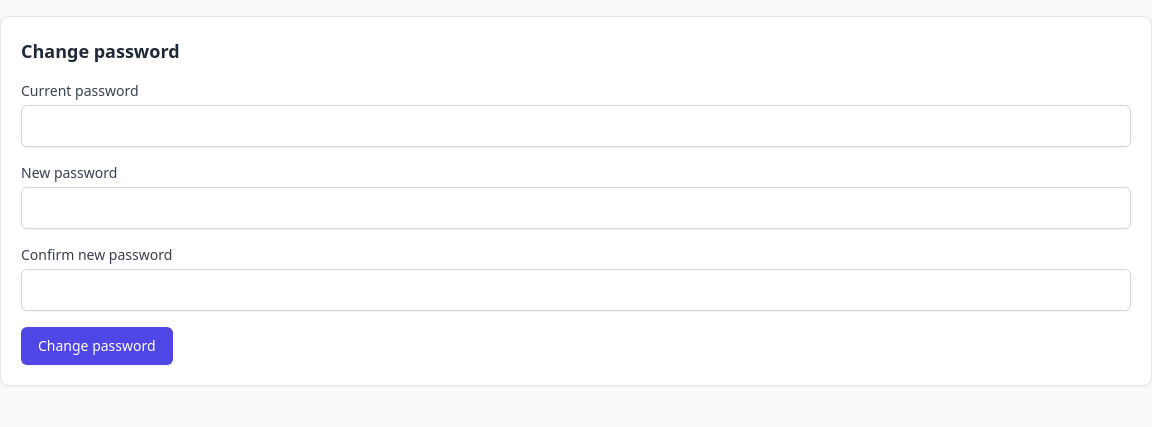
it: ChangePasswordForm › shows an error when the confirmation does not match
The width and height of the screenshot is (1152, 427).
Type "secret1234" into the password field labelled "Current password". click: (576, 126)
box: [21,105,1131,147]
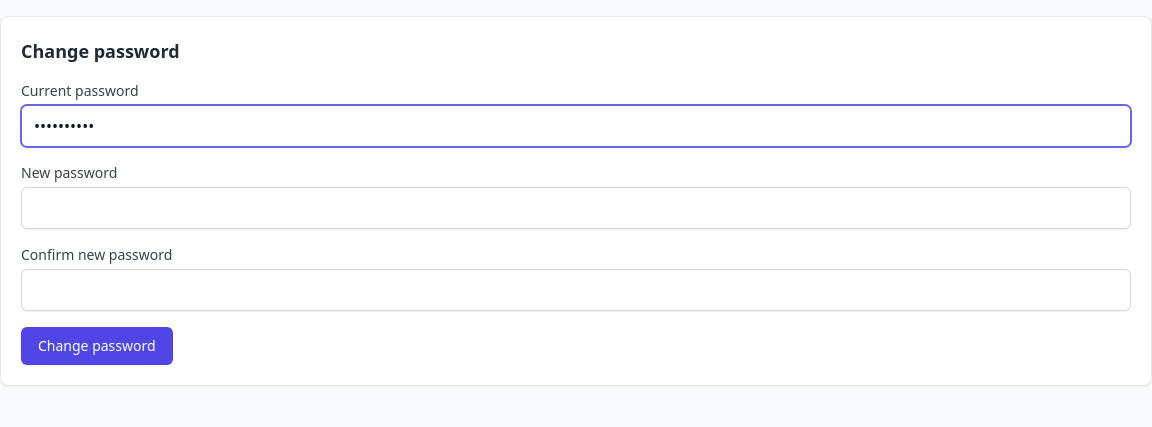
Type "newsecret5678" into the password field labelled "New password". click: (576, 208)
box: [21,187,1131,229]
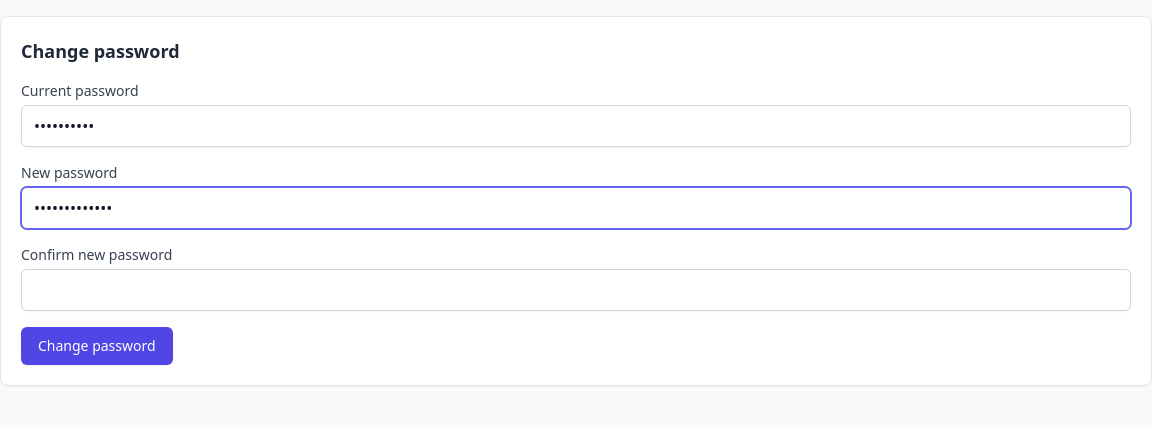
Type "different123" into the password field labelled "Confirm new password". click: (576, 290)
box: [21,269,1131,311]
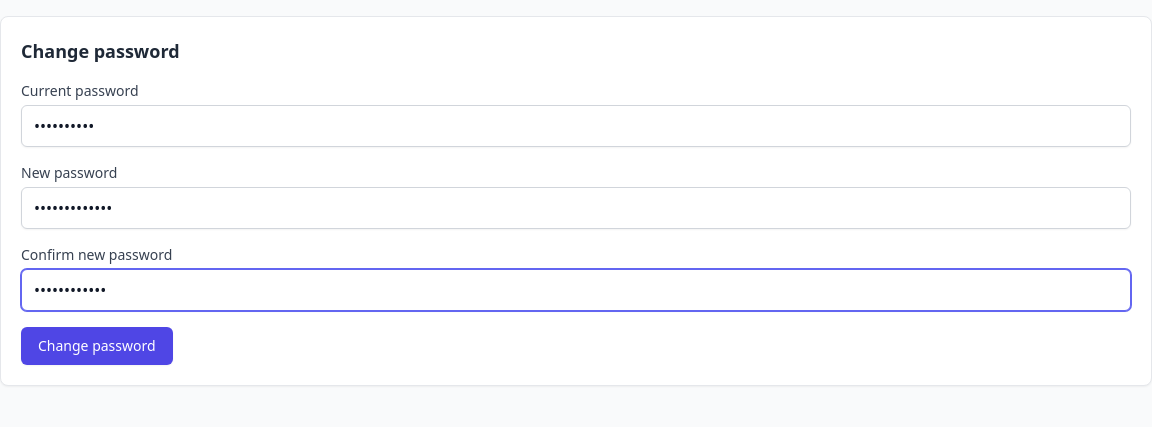
Click the button "Change password". click: (97, 346)
box: [21,327,173,365]
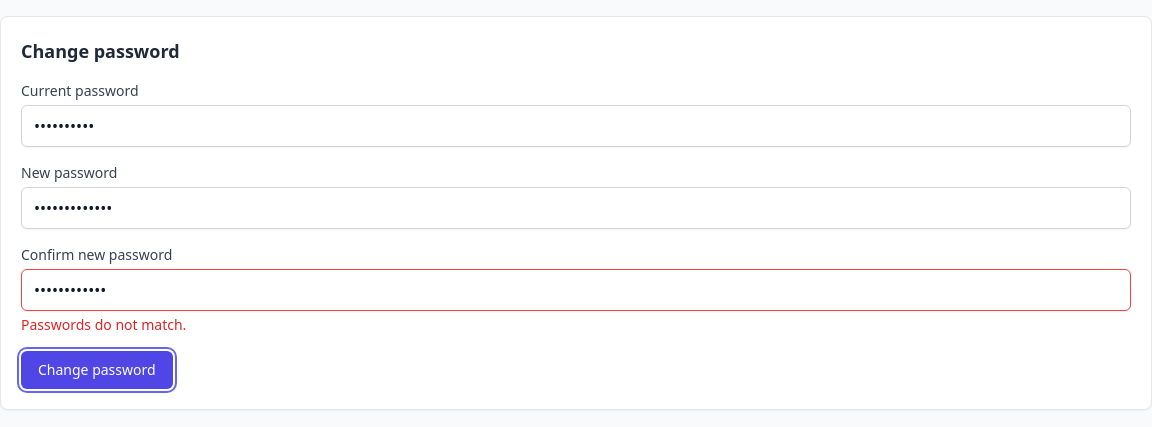
Now the text "Passwords do not match." is shown, box [21,315,186,334]
